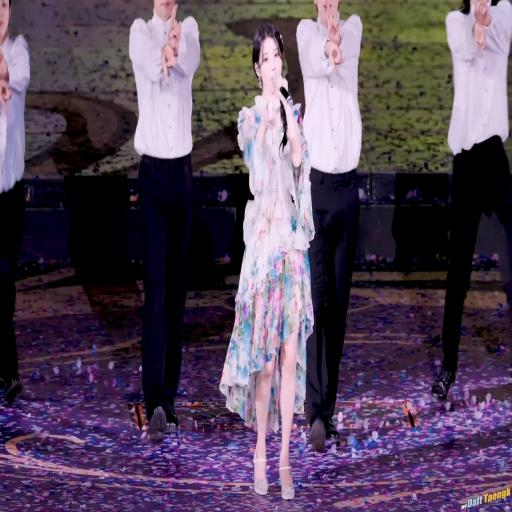IU: (252, 25, 284, 94)
